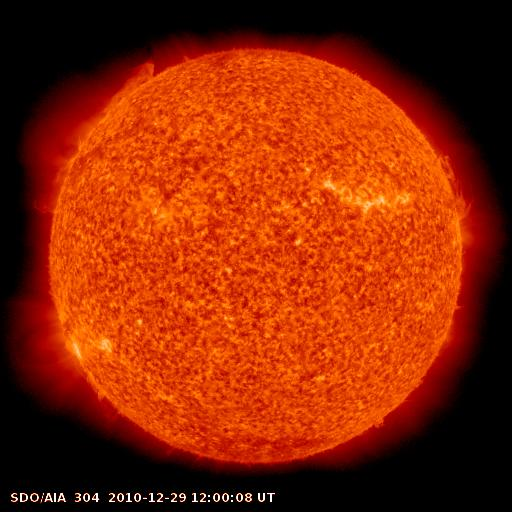prominence: (72, 51, 171, 153), (12, 154, 83, 222), (433, 144, 482, 229), (82, 371, 117, 414)
